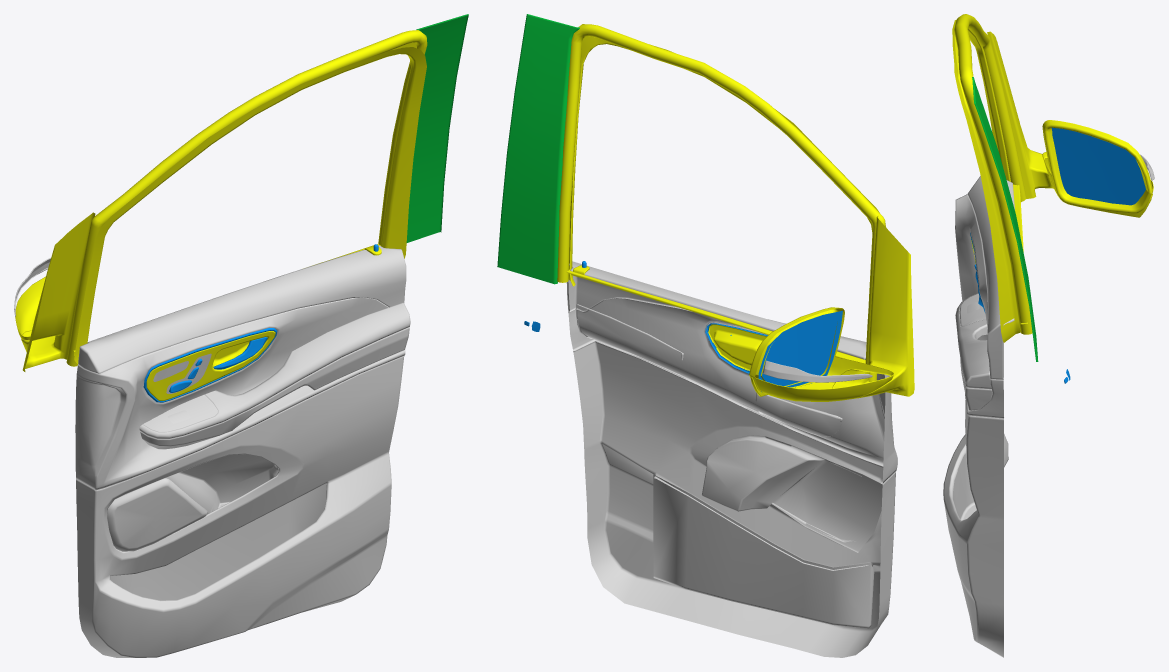
Rendered from Door_f_R_BODY_socket_door_fr.glb.
3 renders of one model, left to right at view 1: azimuth 30°, elevation 25°; view 2: azimuth 150°, elevation 25°; view 3: azimuth 270°, elevation 25°, orthographic. The views are drawn at different scales.
Visible parts, largest first — view 1: f_door_R001; view 2: f_door_R001; view 3: f_door_R001.
Part boxes in pixels (x1=…): f_door_R001: x1=14, y1=14, x2=468, y2=657; f_door_R001: x1=497, y1=14, x2=914, y2=657; f_door_R001: x1=943, y1=14, x2=1154, y2=657.
Size of the model in its own units: 1.04 by 1.36 by 0.4186.
